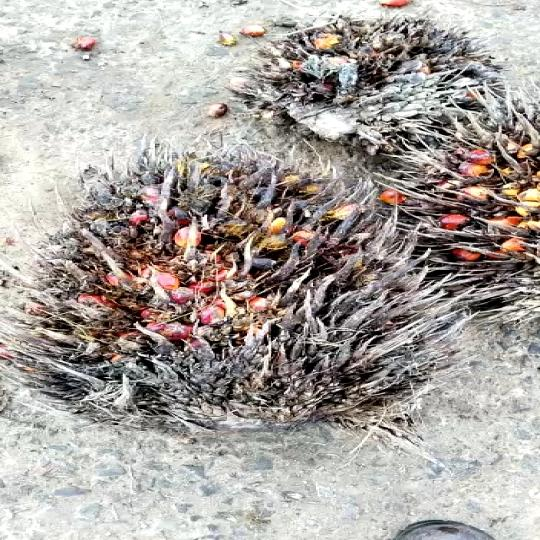terlalu masak: (12, 131, 426, 434), (249, 26, 516, 132)
